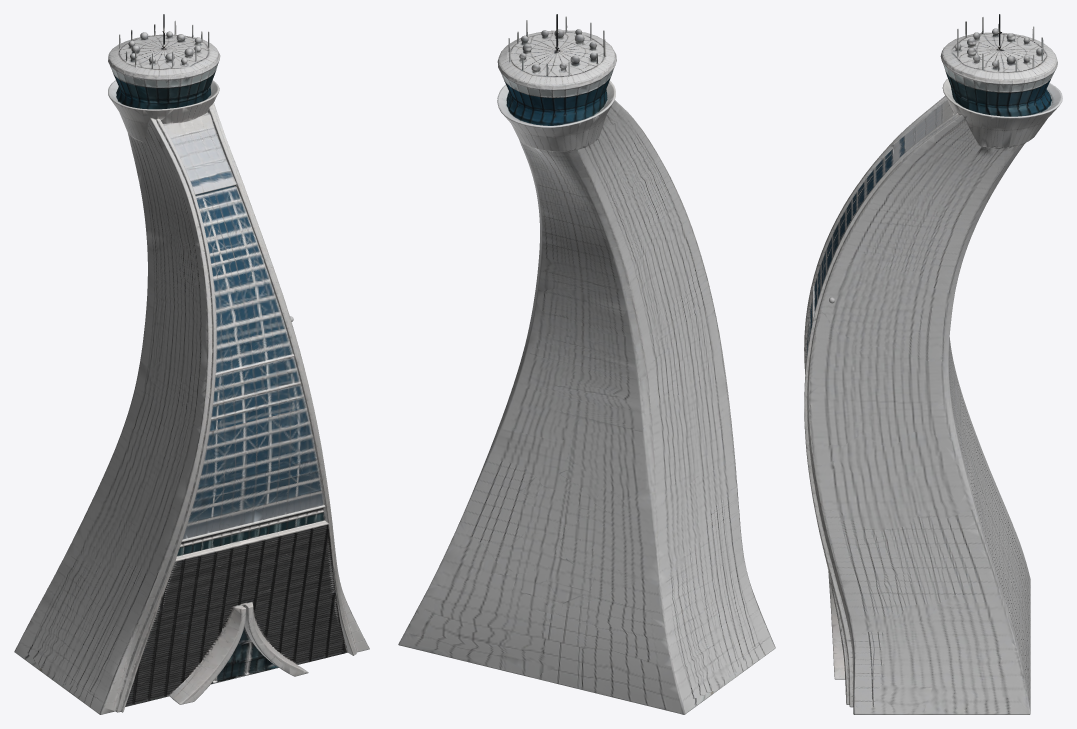
File: model-auh-tower.glb
The picture shows the model from 3 angles, left to right: view 1: azimuth 30°, elevation 25°; view 2: azimuth 150°, elevation 25°; view 3: azimuth 270°, elevation 25°; orthographic projection. The views are drawn at different scales.
Size of the model in its own units: 0.8717 by 1.9 by 0.7041.
1 material, 1 textured.
